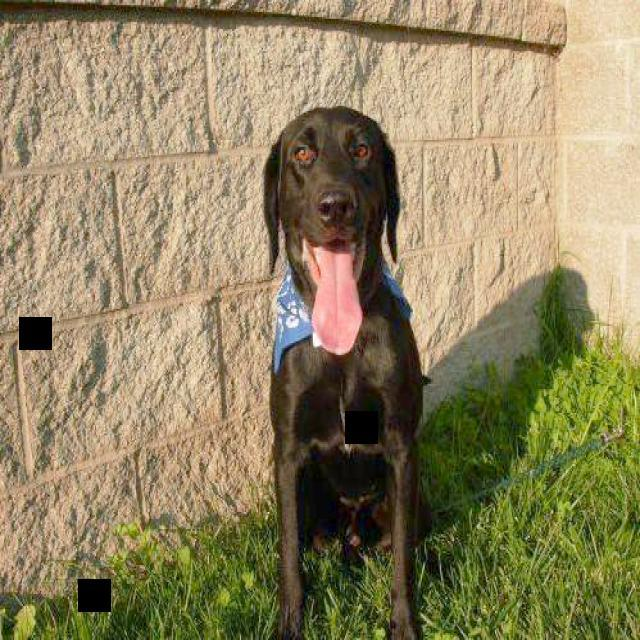adult_dog: (264, 106, 426, 640)
